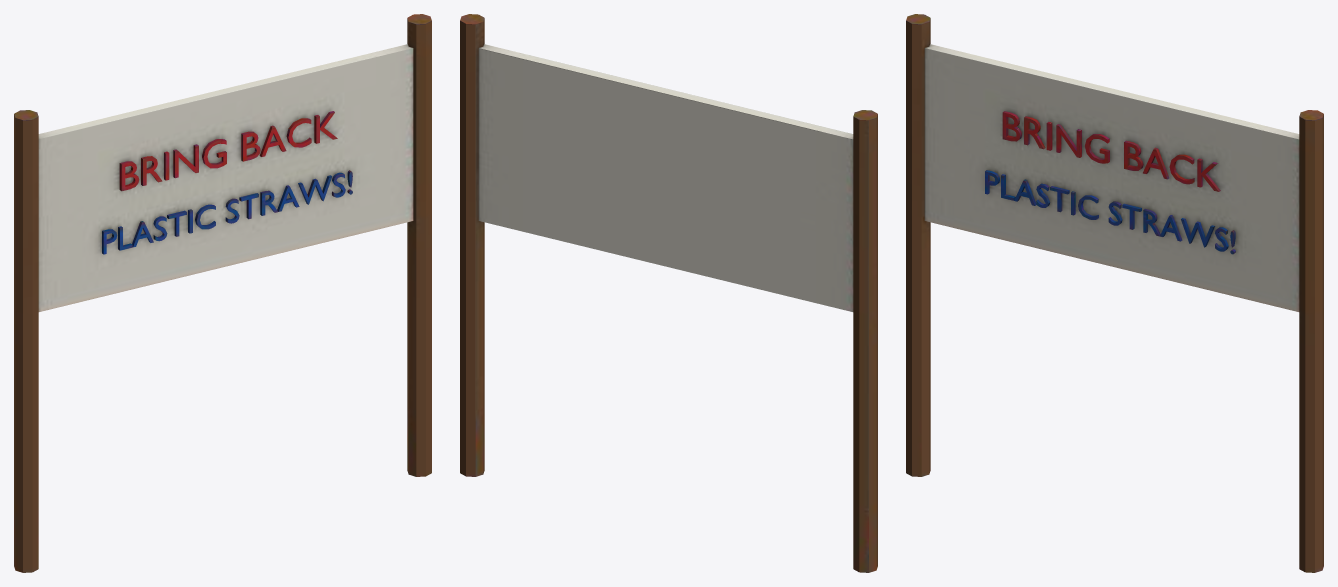
File: cartel_pajitas.glb
The picture shows the model from 3 angles, left to right: view 1: azimuth 30°, elevation 25°; view 2: azimuth 150°, elevation 25°; view 3: azimuth 330°, elevation 25°; orthographic projection.
Visible parts, largest first — view 1: cartel_pajitas; view 2: cartel_pajitas; view 3: cartel_pajitas.
Boxes of the visible parts, x1=… form: cartel_pajitas: x1=14, y1=14, x2=431, y2=572; cartel_pajitas: x1=460, y1=14, x2=877, y2=572; cartel_pajitas: x1=906, y1=14, x2=1323, y2=572.
Bounding box in the file's own units: 2.64 × 2.75 × 0.14.
Materials: 1 (1 with a texture image).
